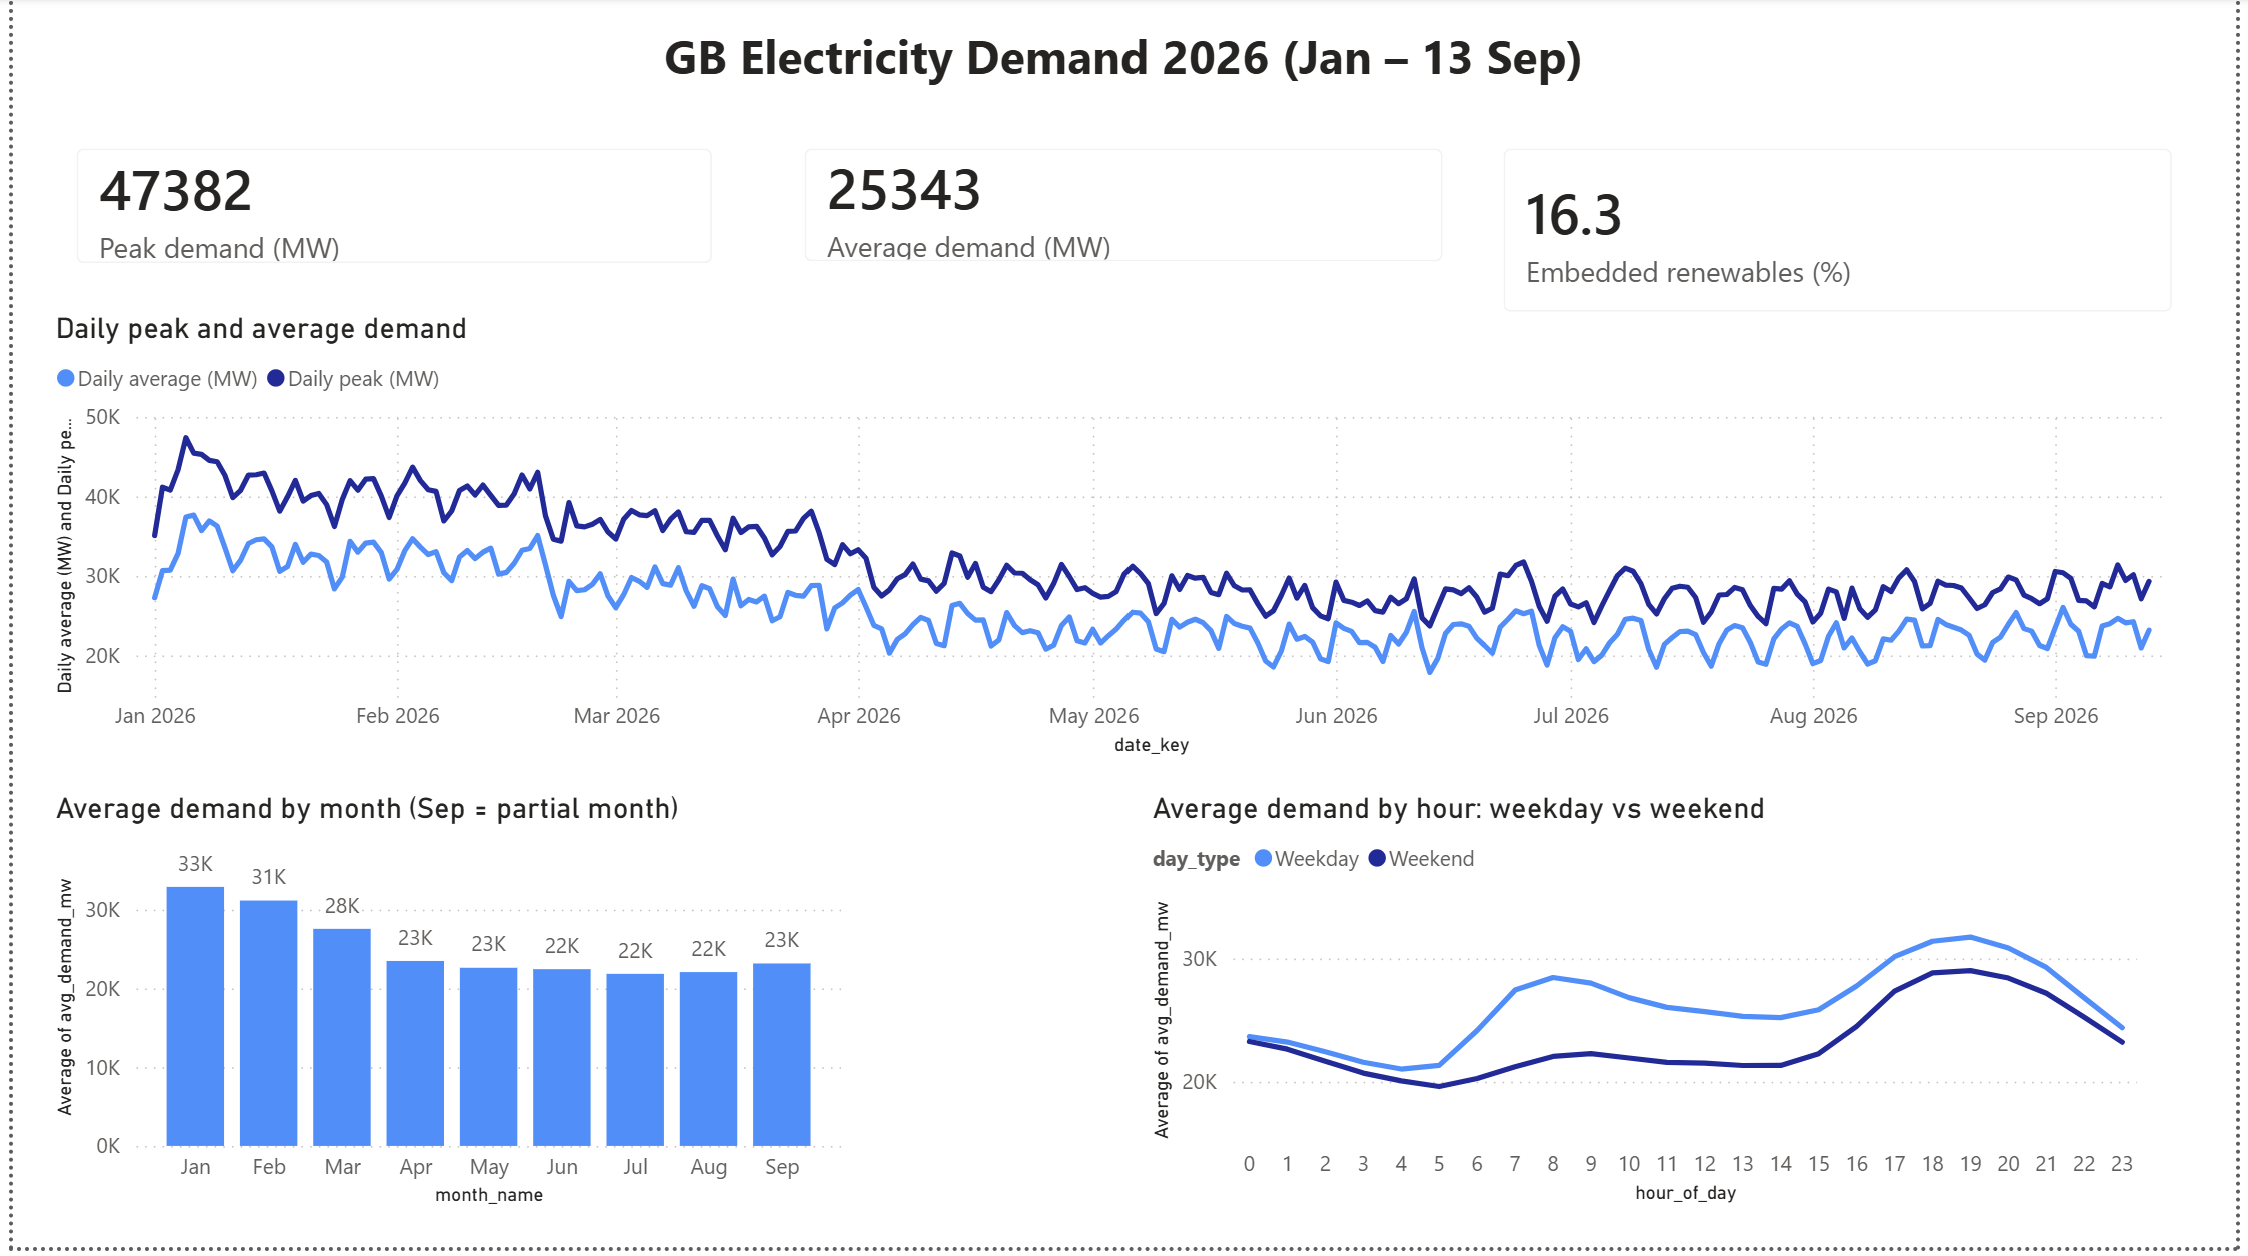

This screenshot's page, from the dashboard's own definition file:
{"tool":"powerbi","page":{"name":"Demand overview","canvas":[1280,720],"ordinal":0},"visuals":[{"type":"textbox","box":[20,10,1240,50],"z":0},{"type":"cardVisual","fields":{"Data":["Max(v_daily_kpis.peak_demand_mw)"]},"box":[20,70,400,100],"z":1},{"type":"lineChart","title":"Daily peak and average demand","fields":{"Y":["Avg(v_daily_kpis.avg_demand_mw)","Sum(v_daily_kpis.Peak demand (MW))"],"Category":["v_daily_kpis.date_key"]},"box":[19.9,180.7,1240.2,260.3],"z":3},{"type":"cardVisual","fields":{"Data":["Avg(v_daily_kpis.avg_demand_mw)"]},"box":[439.4,70.4,401.1,99.5],"z":4},{"type":"cardVisual","fields":{"Data":["Avg(v_daily_kpis.embedded_renewables_pct)"]},"box":[840.6,70.4,419.5,128.6],"z":5},{"type":"lineChart","title":"Average demand by hour: weekday vs weekend","fields":{"Category":["v_hourly_profile.hour_of_day"],"Y":["Avg(v_hourly_profile.avg_demand_mw)"],"Series":["v_hourly_profile.day_type"]},"box":[650.7,457.8,577.2,241.9],"z":6},{"type":"clusteredColumnChart","title":"Average demand by month (Sep = partial month)","fields":{"Category":["v_monthly_summary.month_name"],"Y":["Avg(v_monthly_summary.avg_demand_mw)"]},"box":[19.9,457.8,462.4,243.4],"z":7}]}

Visuals, with their boxes in screenshot pixels (x1, y1, x2, y2), scaled from the page's 1280x720 canvas onto the 2248x1256 screenshot:
textbox: 35,17,2213,105
cardVisual - Max(v_daily_kpis.peak_demand_mw): 35,122,738,297
"Daily peak and average demand" lineChart: 35,315,2213,769
cardVisual - Avg(v_daily_kpis.avg_demand_mw): 772,123,1476,296
cardVisual - Avg(v_daily_kpis.embedded_renewables_pct): 1476,123,2213,347
"Average demand by hour: weekday vs weekend" lineChart: 1143,799,2156,1221
"Average demand by month (Sep = partial month)" clusteredColumnChart: 35,799,847,1223
